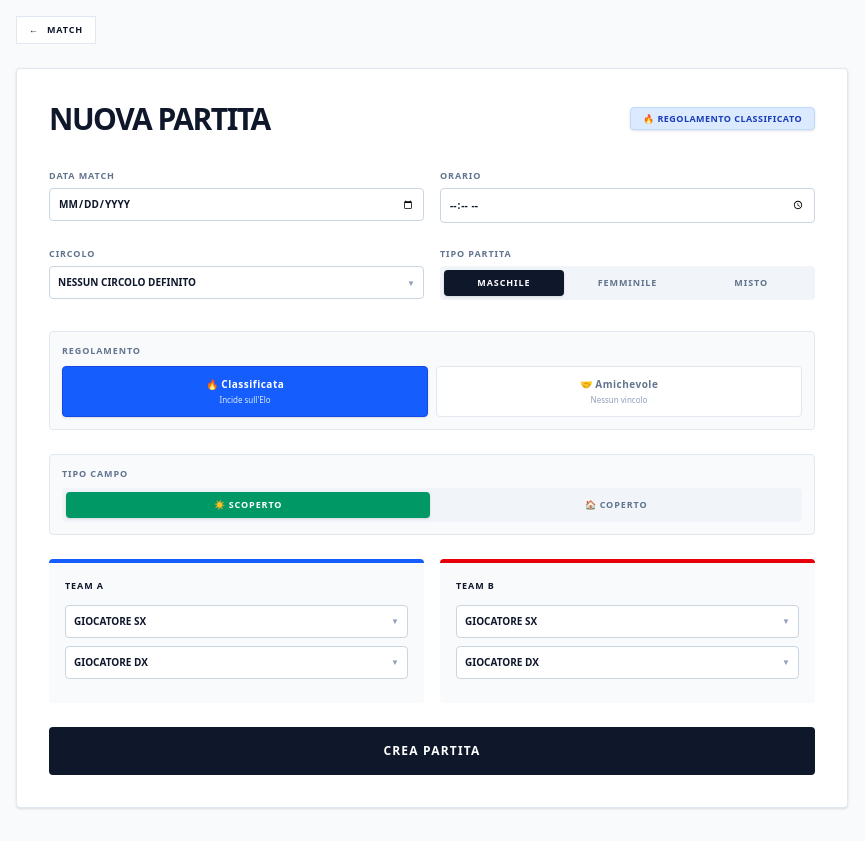
it: CreateMatchForm Component (Page Integration) › in modalità AMICHEVOLE, un giocatore DX dovrebbe apparire anche nel dropdown SX
This screenshot has width=865, height=841.
Expected: the heading "Nuova Partita" is shown, [49,100,270,136]
Click the text "🤝 Amichevole". click: [619, 384]
box: [580,376,658,392]
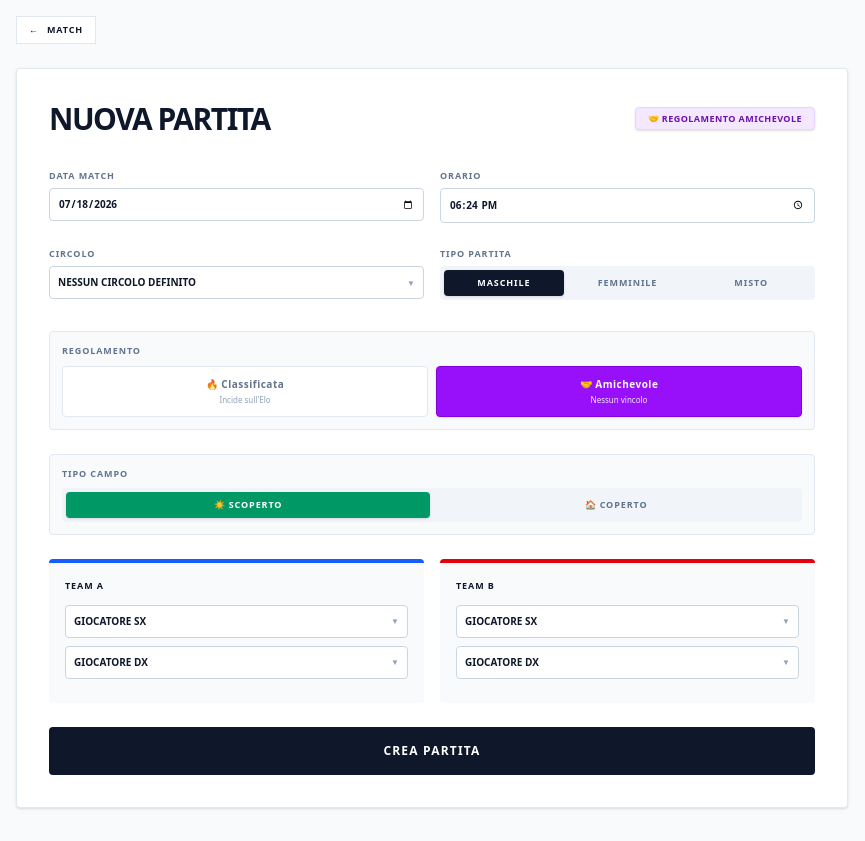
Click the text "GIOCATORE SX" below "TEAM A". click: [110, 621]
box: [74,614,146,628]
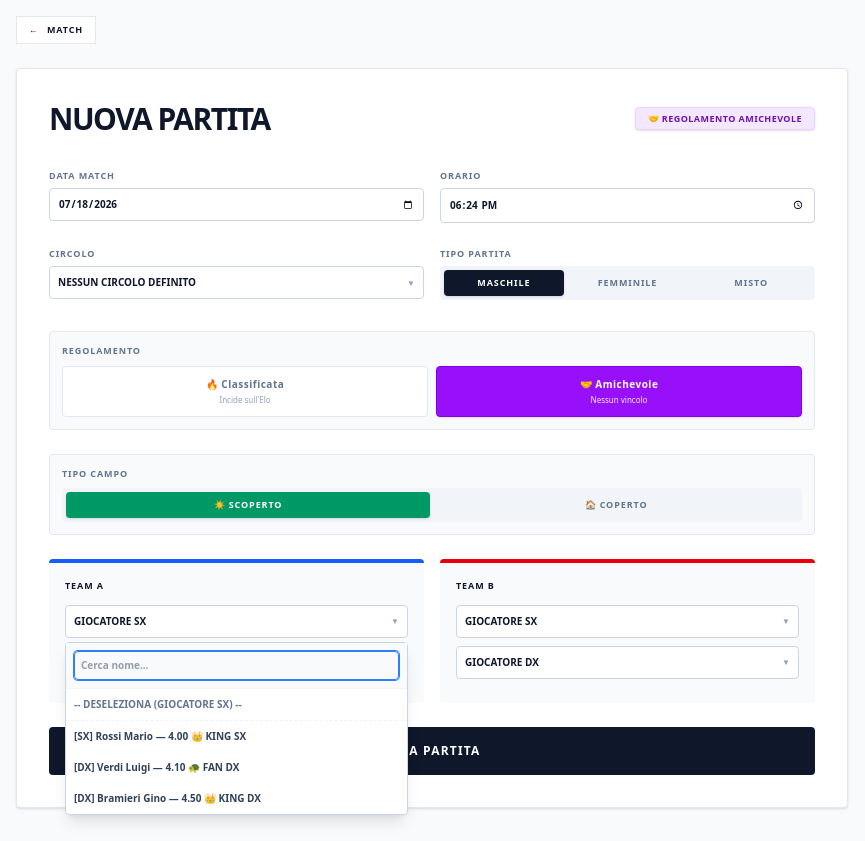
Expected: the text "[DX] Verdi Luigi — 4.10 🐢 FAN DX" is shown, [74,760,240,774]
